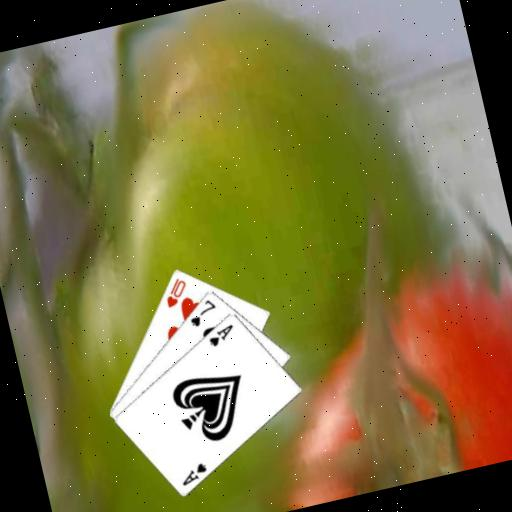10H: (159, 273, 192, 310)
7S: (183, 295, 221, 330)
AS: (175, 458, 211, 488), (203, 321, 238, 350)
